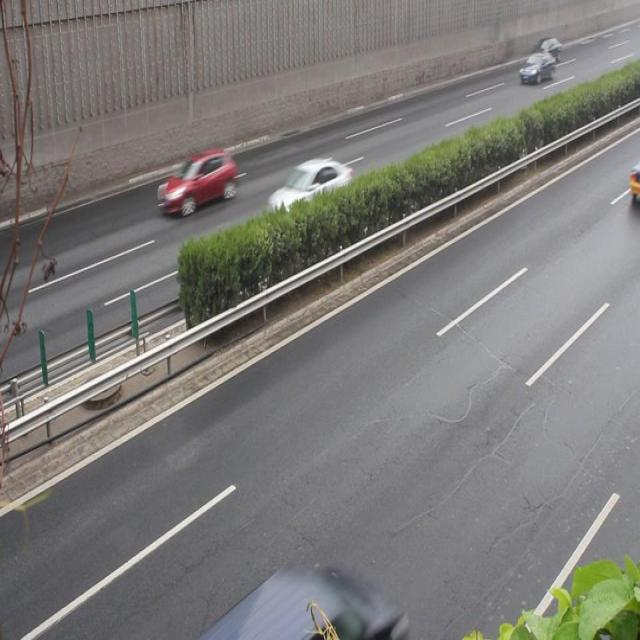car: (266, 157, 353, 233), (157, 150, 235, 216)
